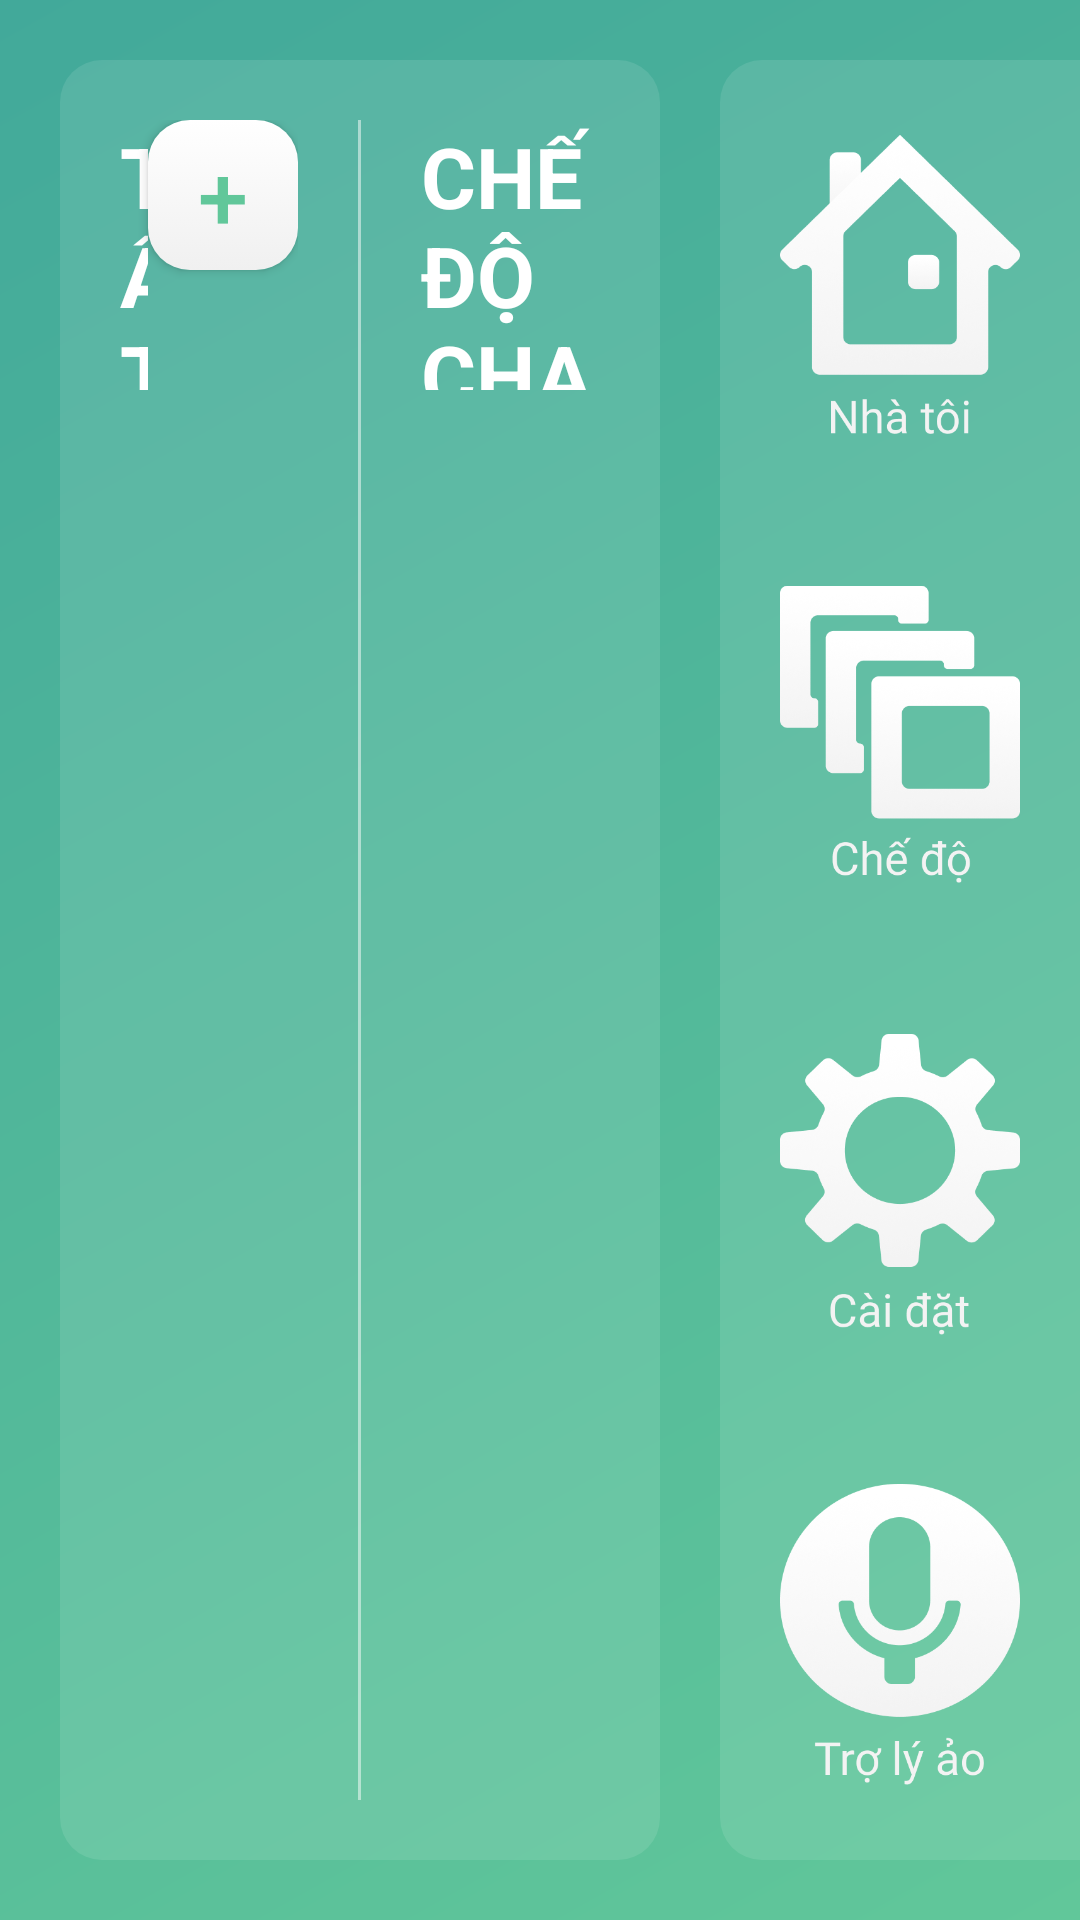

Icons on this 1080 x 1920 Android screen, each with its box as {"left": x1, "top": y1, "right": x2, "bottom": y2}:
voice: {"left": 780, "top": 1484, "right": 1020, "bottom": 1785}
